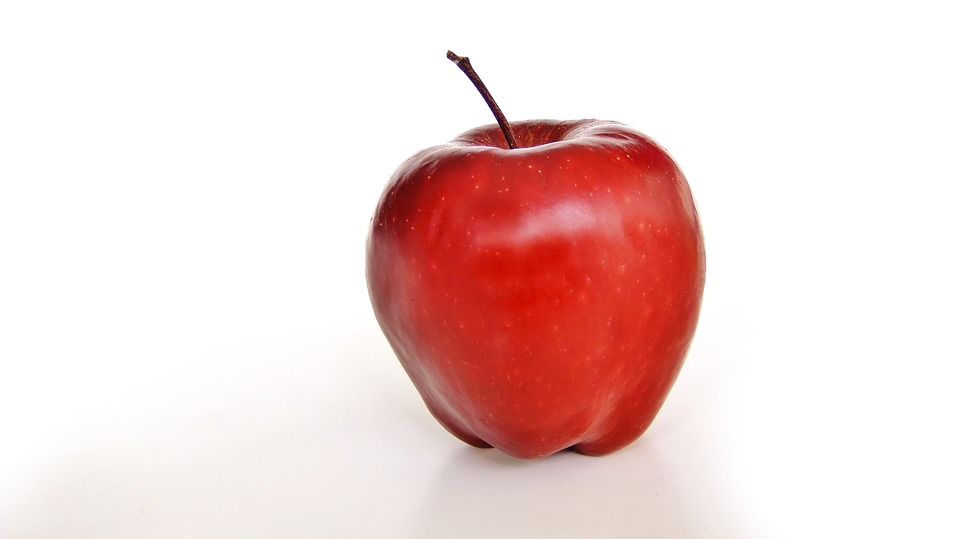apple: (362, 112, 710, 463)
